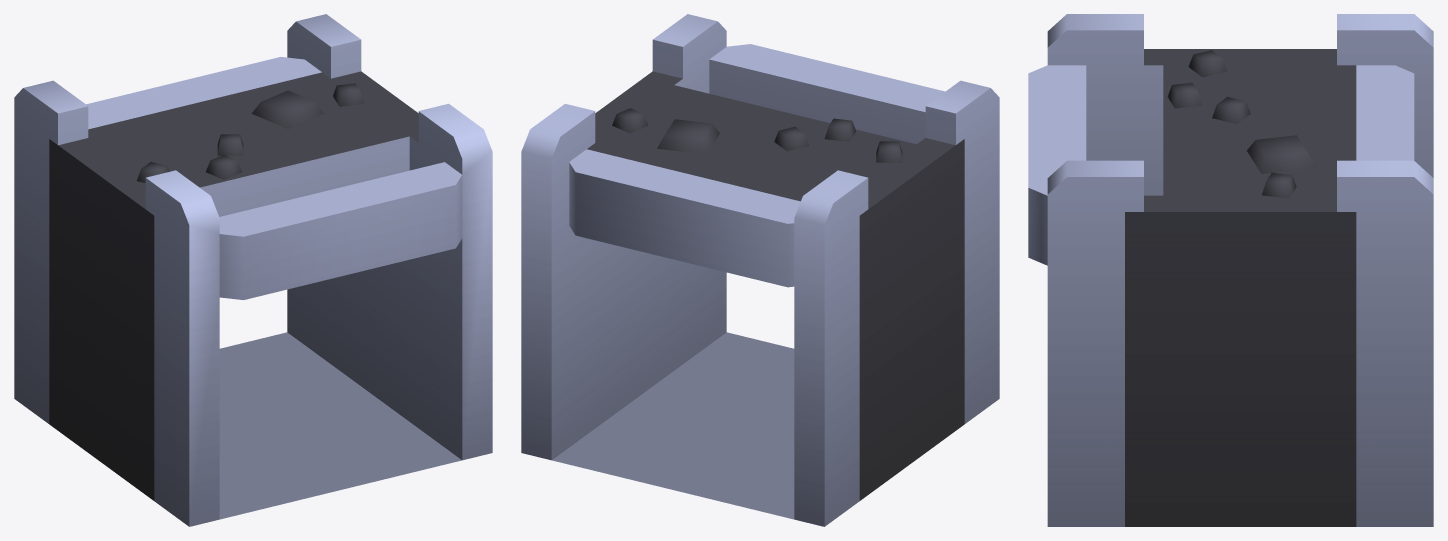
The model's file is wall-opening.glb.
3 views of the same model, side by side, from view 1: azimuth 30°, elevation 25°; view 2: azimuth 150°, elevation 25°; view 3: azimuth 270°, elevation 25° (orthographic). The views are drawn at different scales.
Visible parts, largest first — view 1: wall-opening; view 2: wall-opening; view 3: wall-opening.
Part boxes in pixels (x1=…): wall-opening: x1=14, y1=14, x2=492, y2=526; wall-opening: x1=521, y1=14, x2=999, y2=526; wall-opening: x1=1028, y1=14, x2=1433, y2=526.
Size of the model in its own units: 1 by 1 by 1.05.
